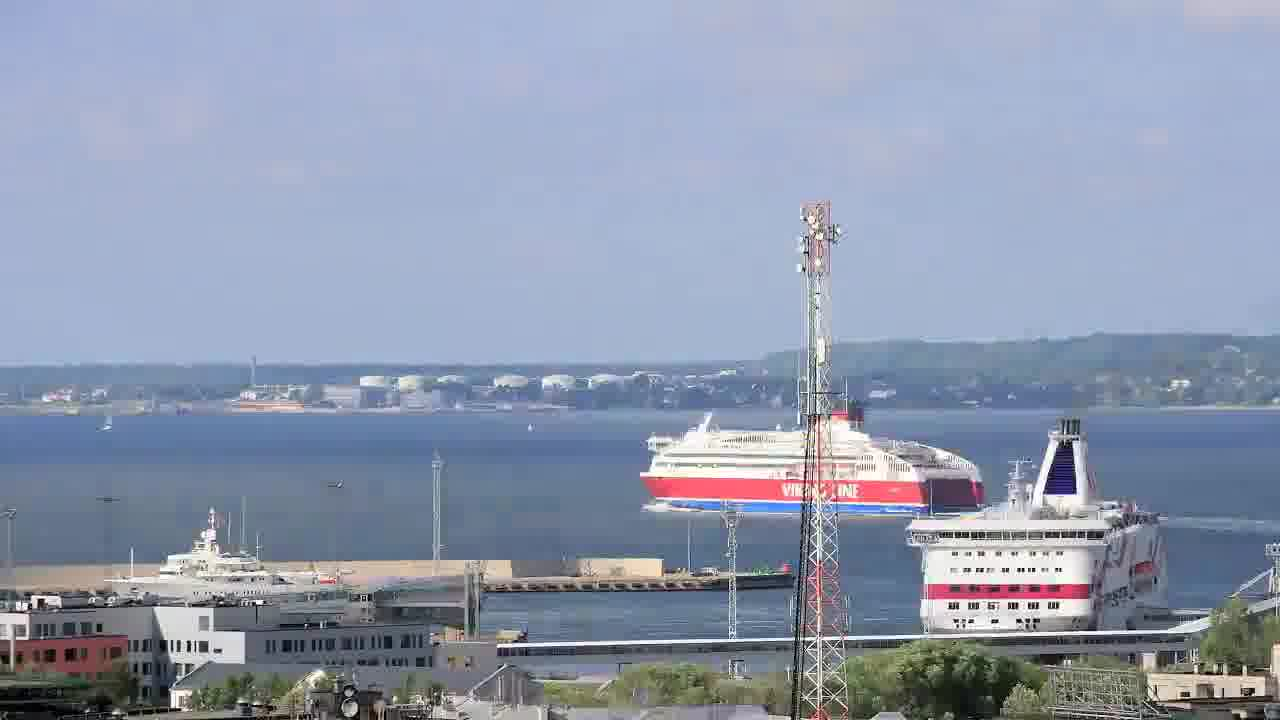type-2: (90, 394, 133, 450)
type-3: (889, 419, 1189, 638), (632, 397, 994, 512), (89, 518, 402, 620)
